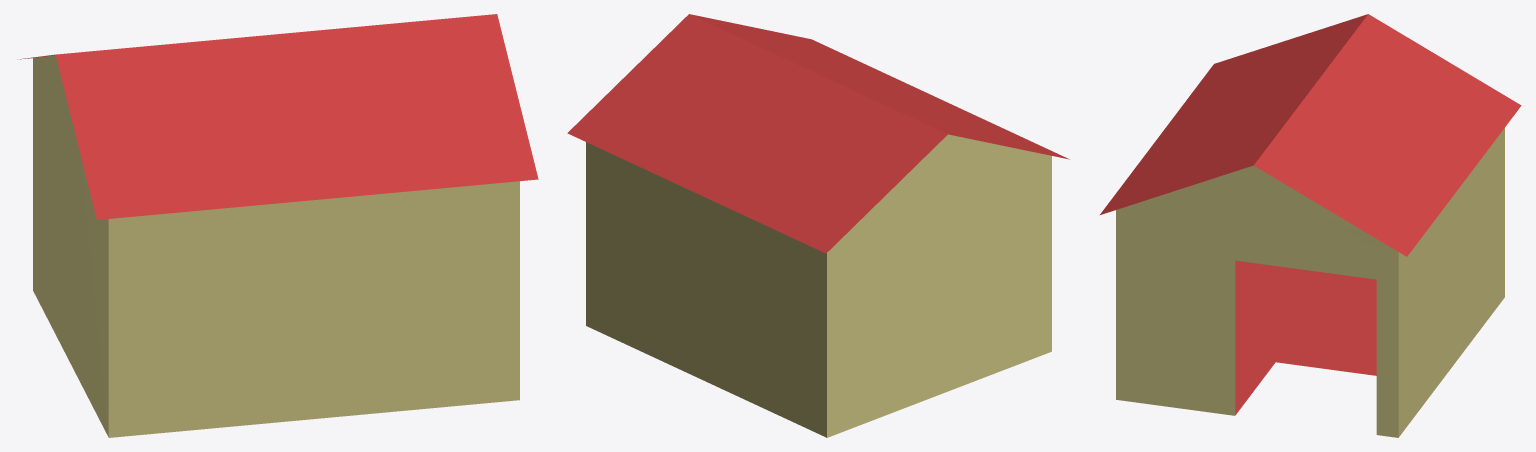
3 renders of one model, left to right at view 1: azimuth 30°, elevation 25°; view 2: azimuth 150°, elevation 25°; view 3: azimuth 270°, elevation 25°, orthographic. The views are drawn at different scales.
Size of the model in its own units: 17.46 by 16.14 by 10.91.
